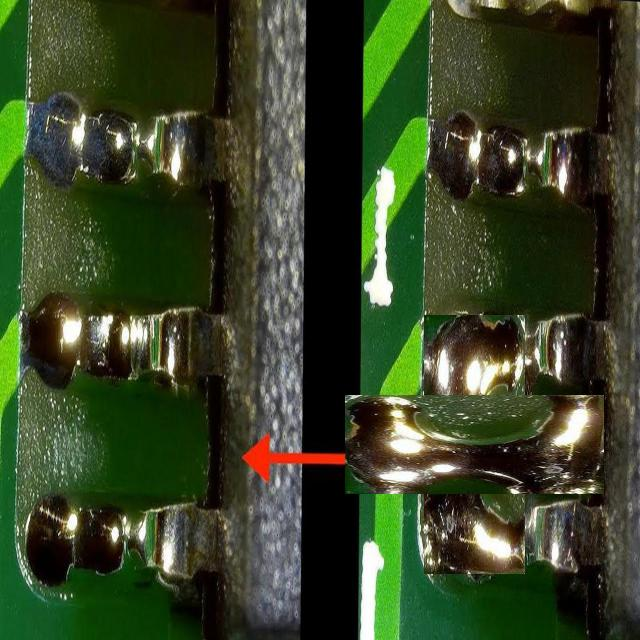Short_circuit: (345, 394, 604, 494)
